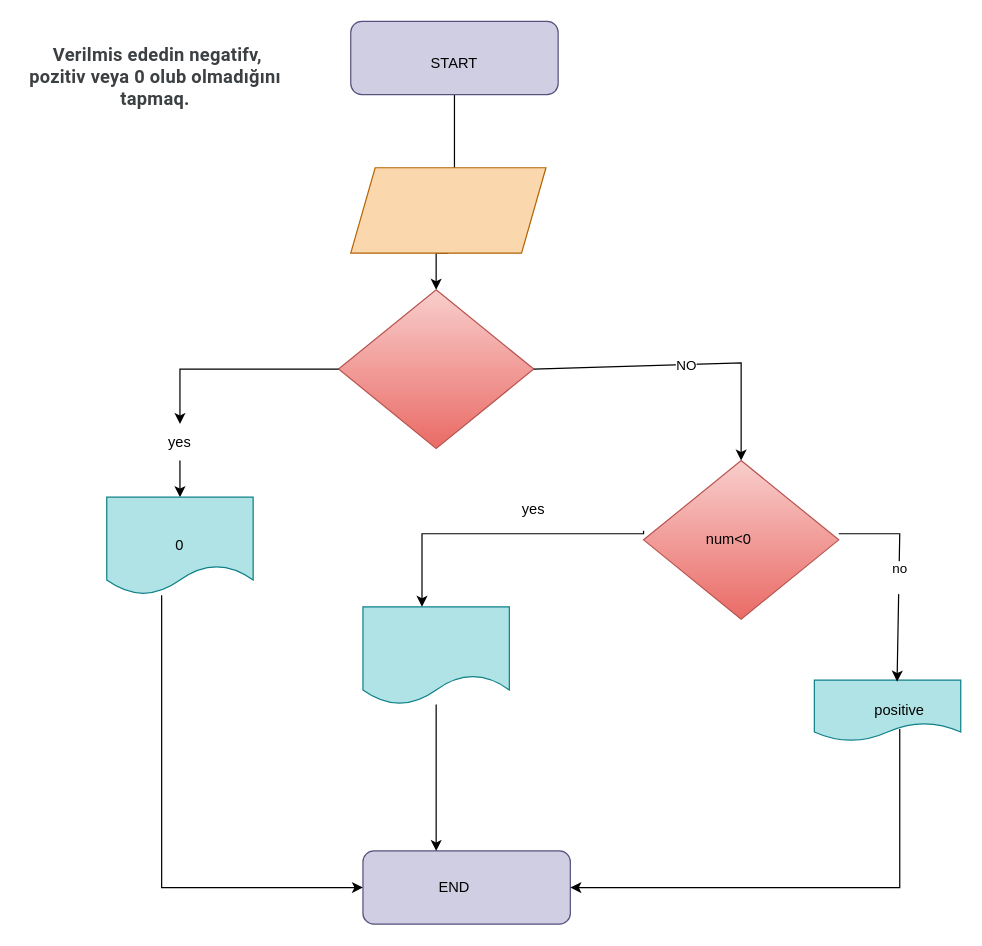
The diagram is 982 pixels wide and 946 high, and some of its shapes have lost their labels. Here are the shapes that lost their labels. From the top down, the centre of each, then its label:
At (x=448, y=210): "num".
At (x=435, y=368): "num=0".
At (x=435, y=655): "negative".
